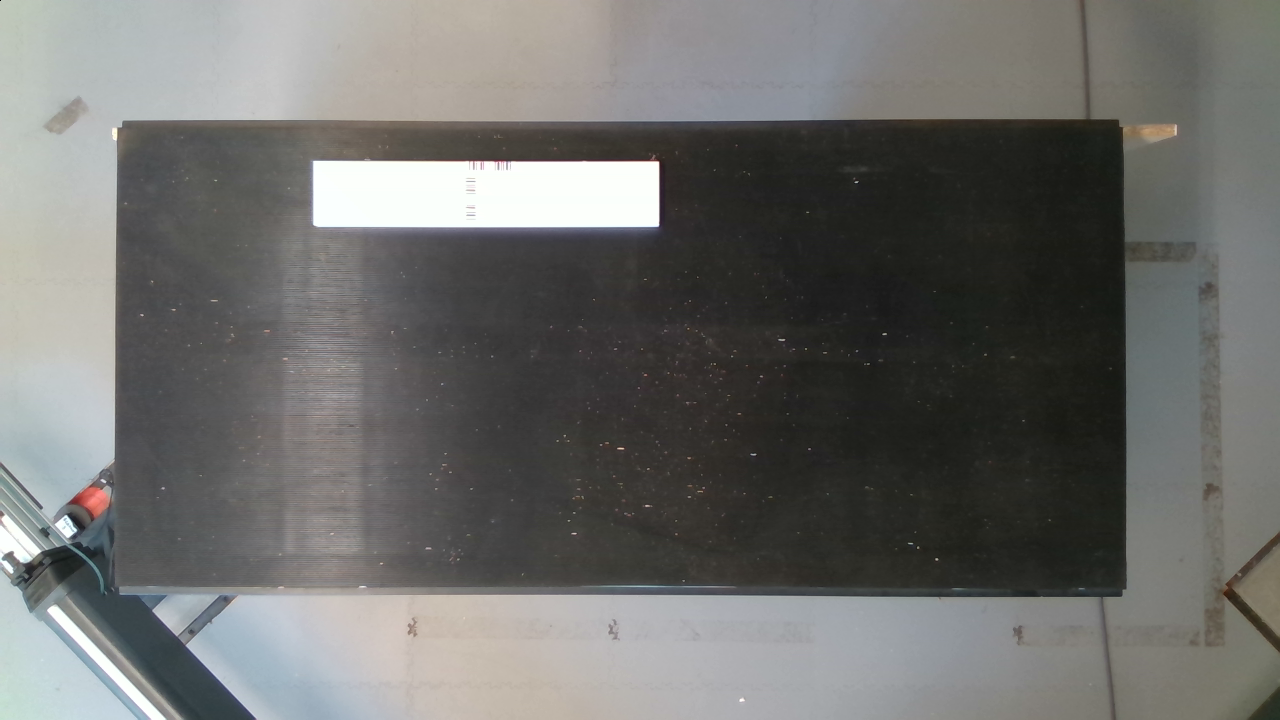barcode: (457, 150, 528, 227)
part1: (306, 152, 677, 238)
